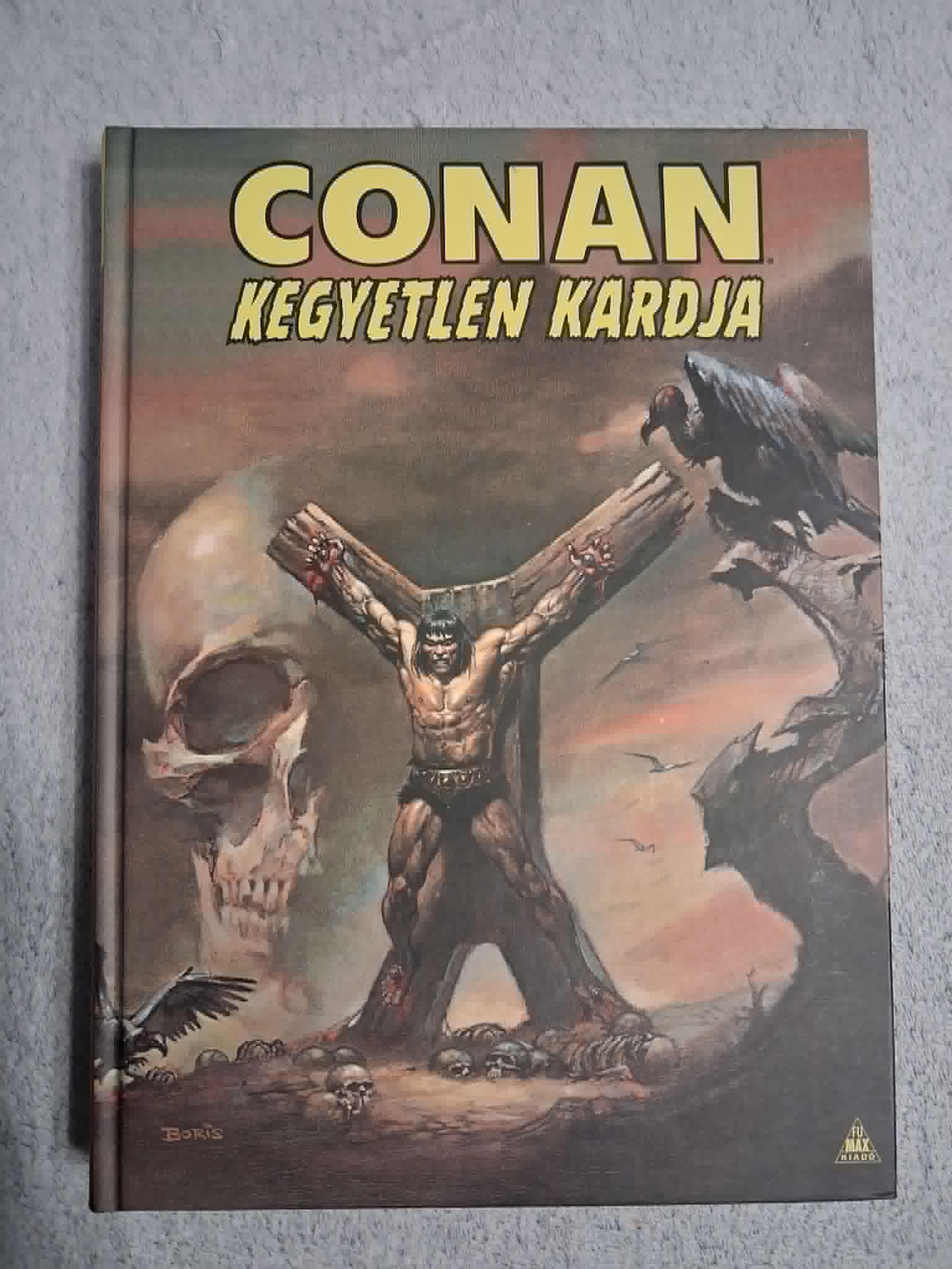comic: (90, 128, 894, 1208)
